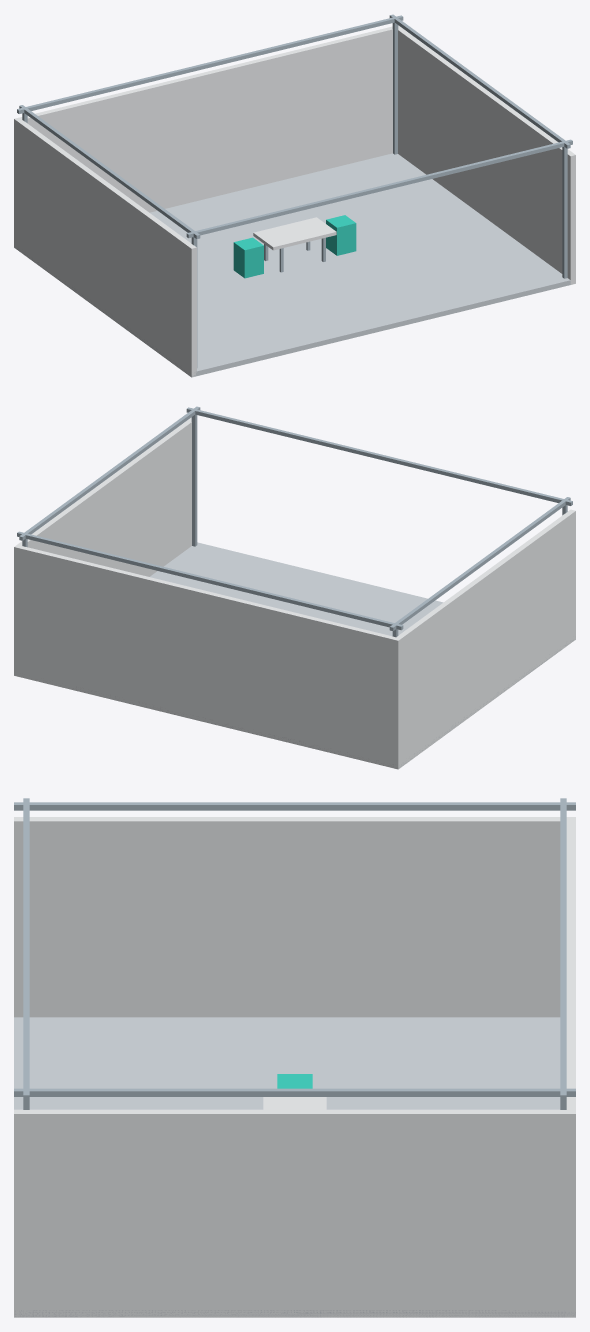
The picture shows the model from 3 angles, top to bottom: view 1: azimuth 30°, elevation 25°; view 2: azimuth 150°, elevation 25°; view 3: azimuth 270°, elevation 25°; orthographic projection. The views are drawn at different scales.
Visible parts, largest first — view 1: Exhibition Booth Concept; view 2: Exhibition Booth Concept; view 3: Exhibition Booth Concept.
Boxes of the visible parts, box(x1,y1,x2,y2) form: Exhibition Booth Concept: box(14, 14, 575, 377); Exhibition Booth Concept: box(14, 406, 575, 769); Exhibition Booth Concept: box(14, 798, 575, 1317).
Bounding box in the file's own units: 10 × 3.49 × 8.
